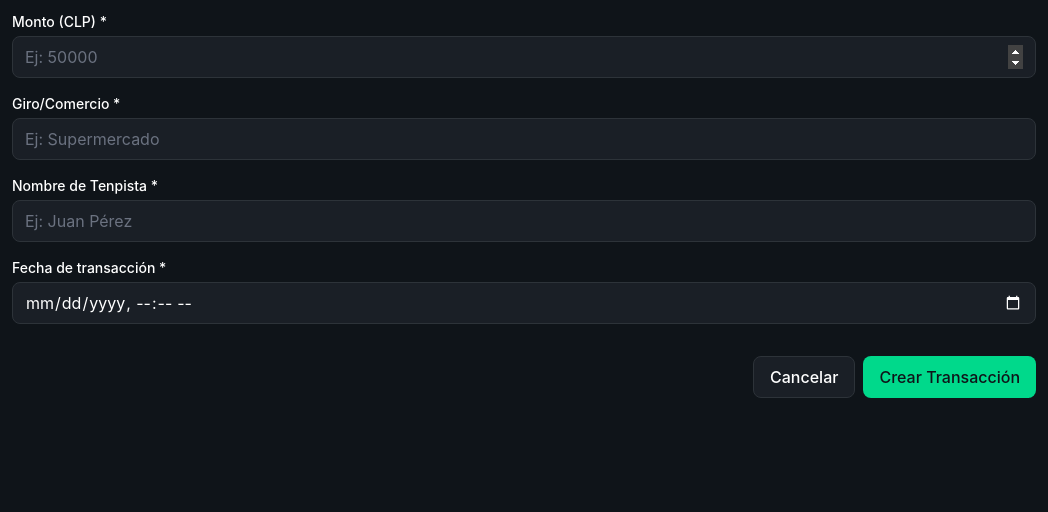
TransactionForm › Creación de transacción › debe validar campos requeridos al intentar enviar el formulario vacío
What coordinates should you click on to do the following:
click the button "Crear Transacción"
I would click on:
 (950, 377)
Its box is [863, 356, 1036, 398].
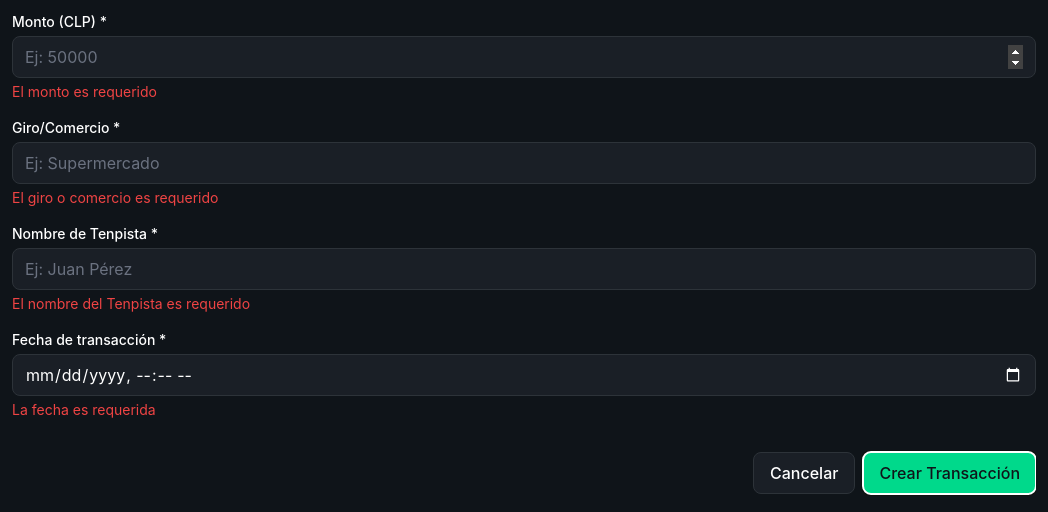
Result: the text "El monto es requerido" is shown at [12, 83, 157, 100]
Result: the text "El giro o comercio es requerido" is shown at [12, 189, 218, 206]
Result: the text "El nombre del Tenpista es requerido" is shown at [12, 295, 250, 312]
